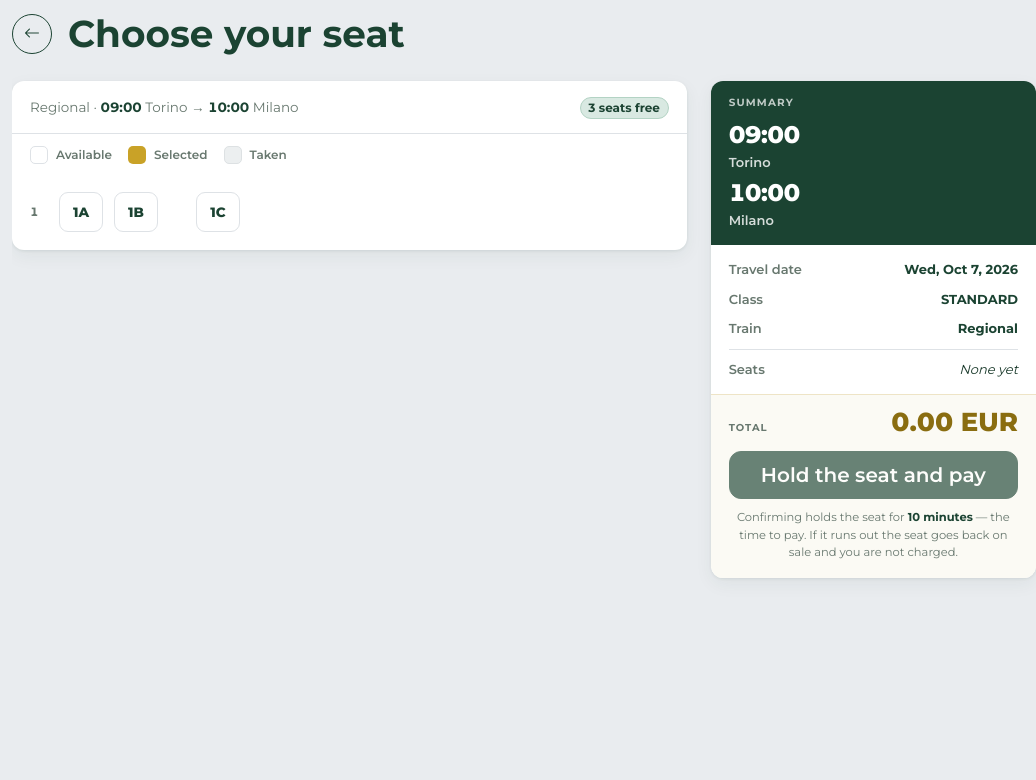
Test: seat selection › does not book again when the other checkout turns out to be paid already
Click the button "1A".
click(81, 212)  # box [59,192,103,232]
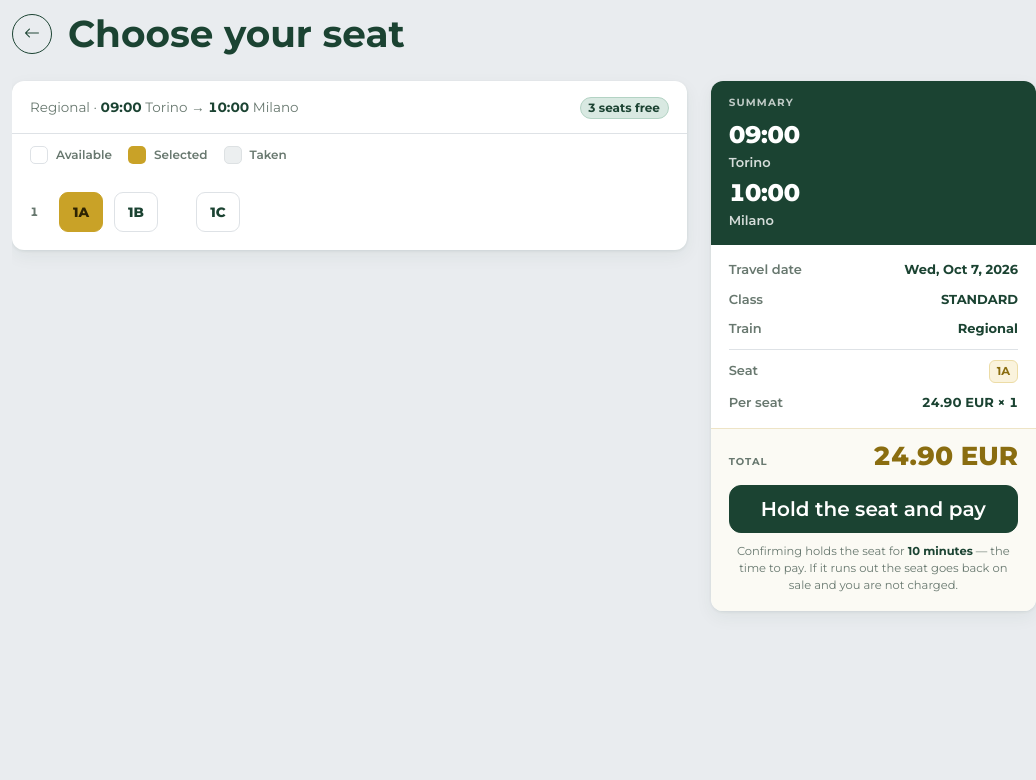
Click the button "Hold the seat and pay".
click(873, 509)  # box [729,485,1018,533]
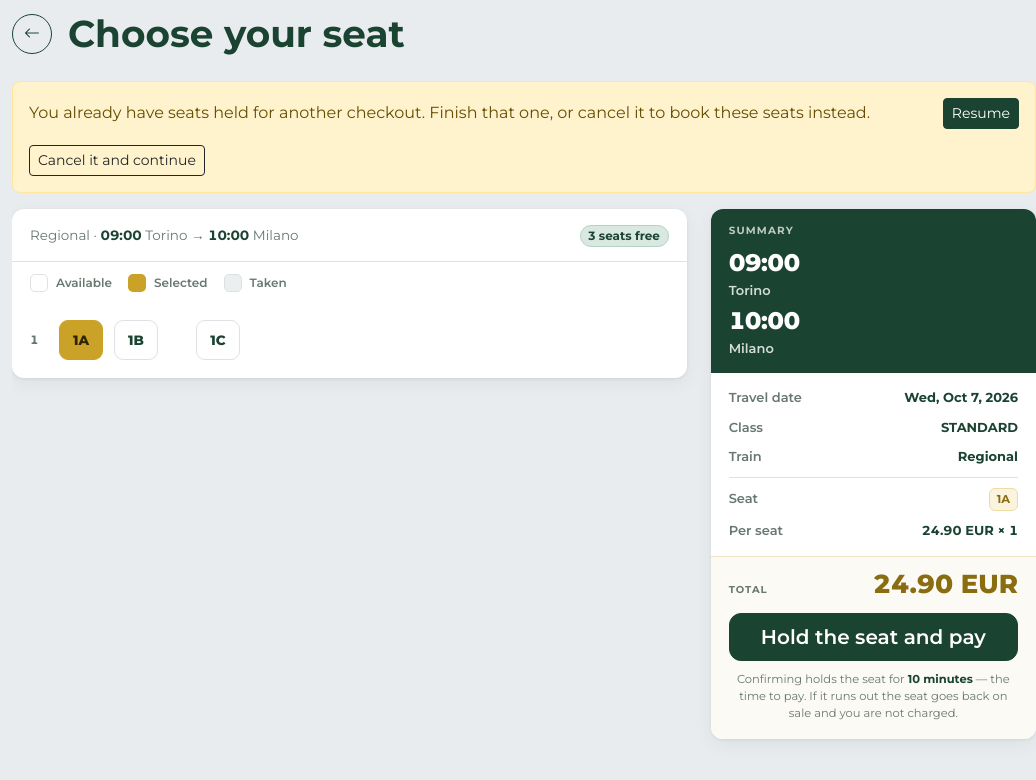
Click the button "Cancel it and continue".
click(117, 160)  # box [29,145,205,176]
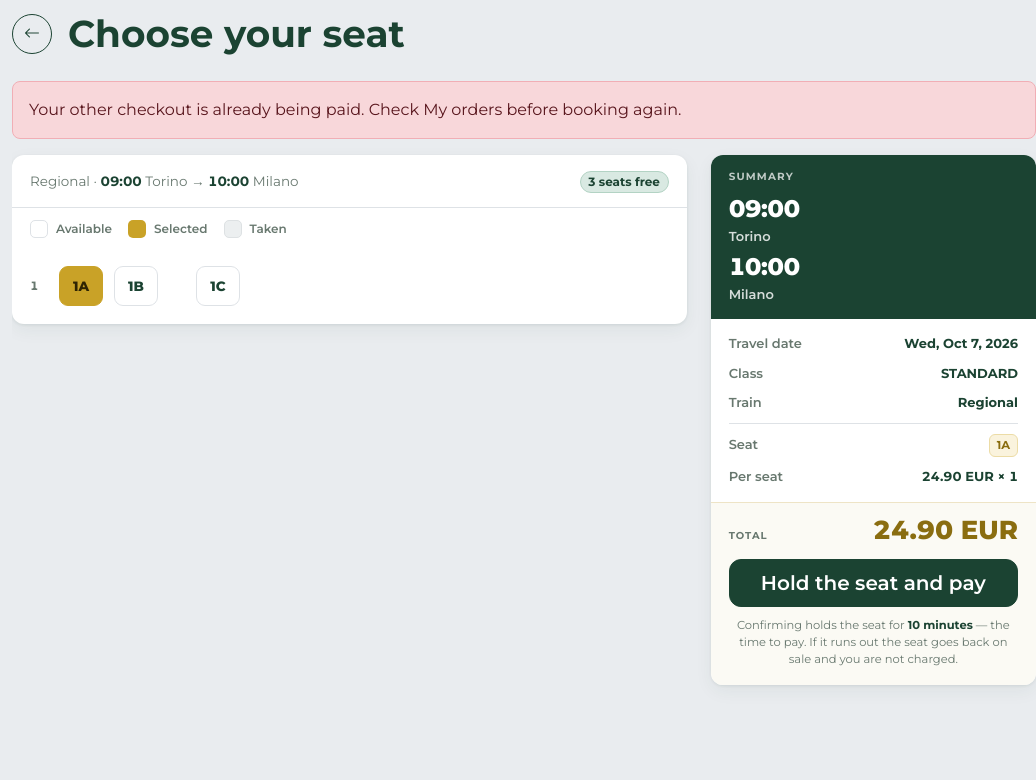
Check: the text "already being paid" is shown, box [29,100,681,119]
